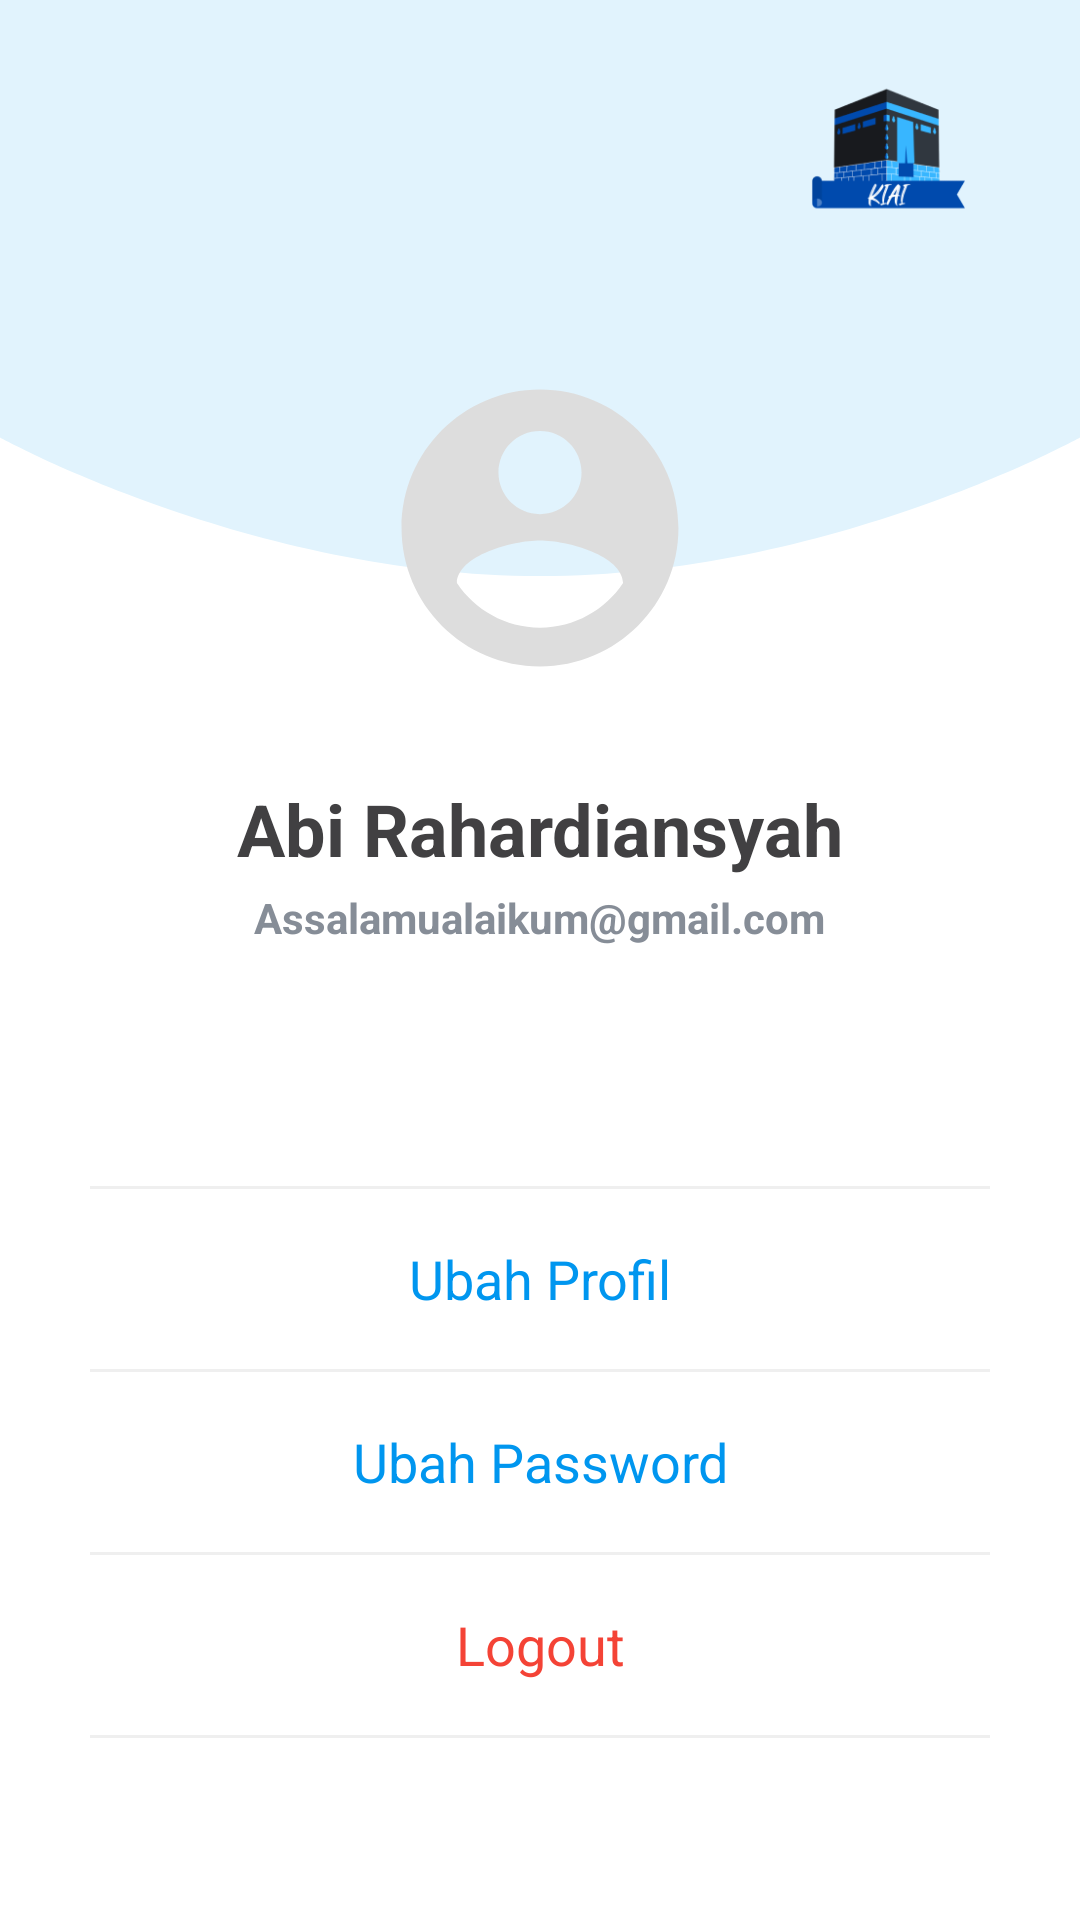

Named icons in this screenshot (1080px x 1920px) and their centers, (x,y):
profile: (540,528)
